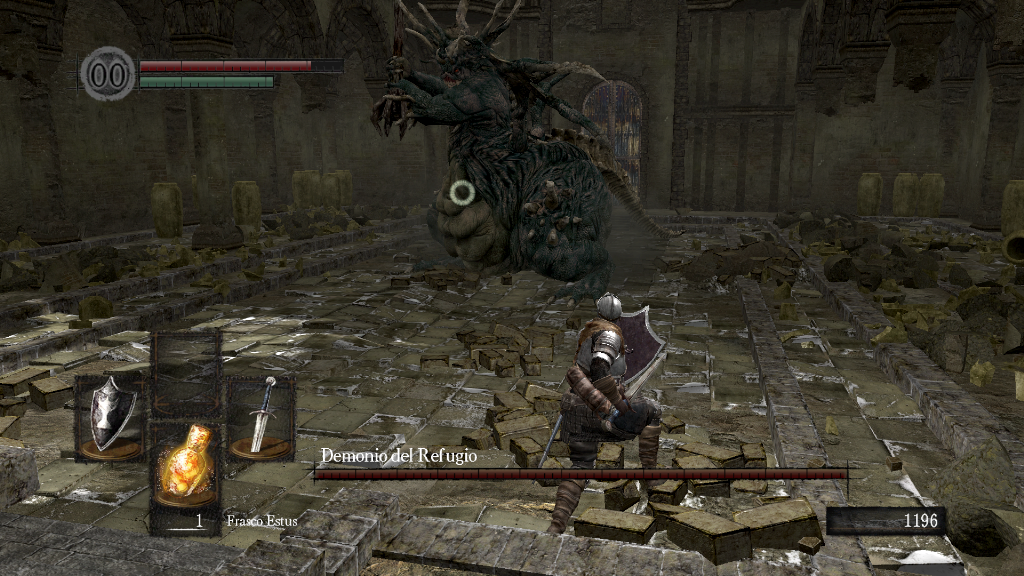asylumDemon: (366, 2, 689, 298)
bossHP: (314, 469, 847, 479)
health: (138, 58, 343, 71)
humanity: (80, 45, 136, 102)
player: (546, 293, 666, 535)
souls: (825, 506, 945, 536)
stamina: (138, 74, 274, 88)
